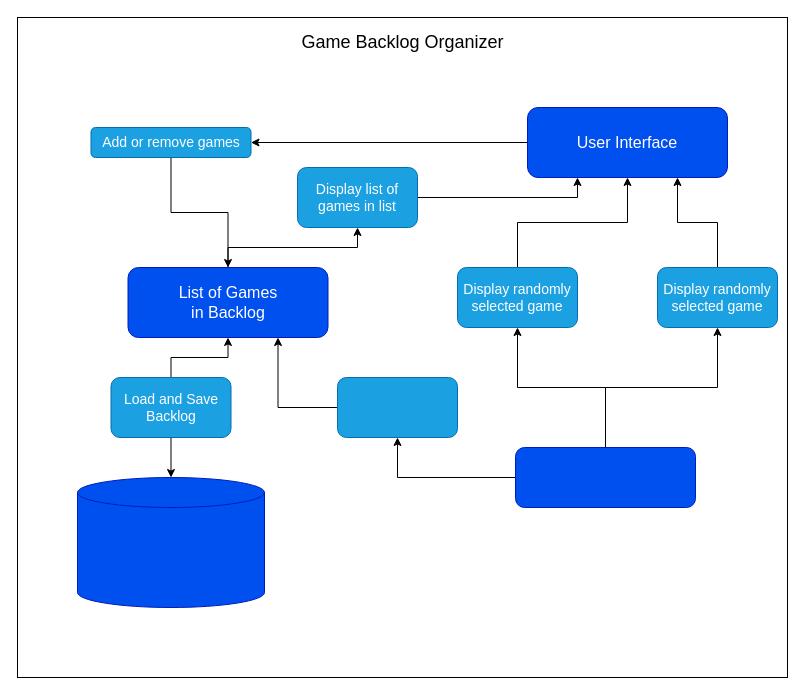
This 805x695 diagram has some shape labels left out. Each missing label, with the centre of its shape:
Choose from: (397,407)
Local JSON File: (170,542)
Random Game Selector: (605,477)
